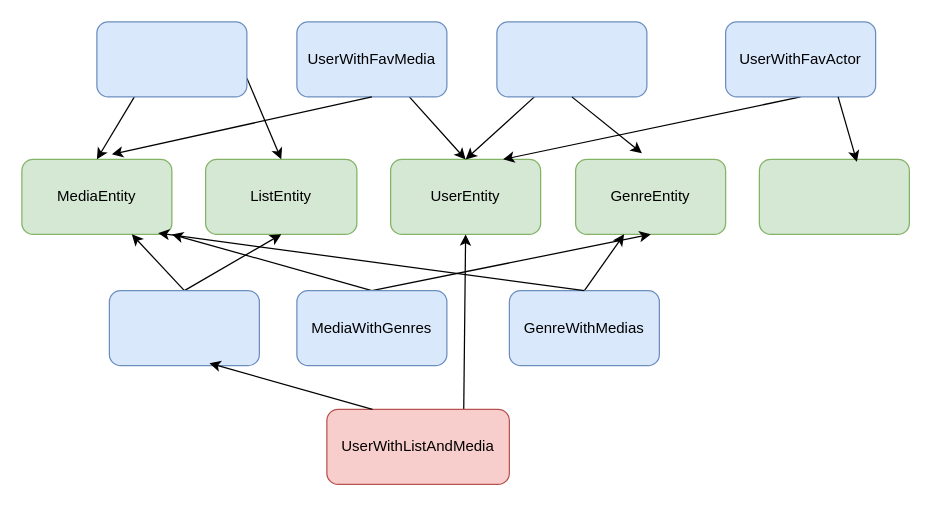
Some shapes in this 931 by 506 pixel diagram are drawn without their labels. Each missing label, with the centre of its shape:
ActorEntity: (833,196)
ListWithMedia: (183,327)
MediaWithList: (171,59)
UserWithFavGenre: (571,59)
